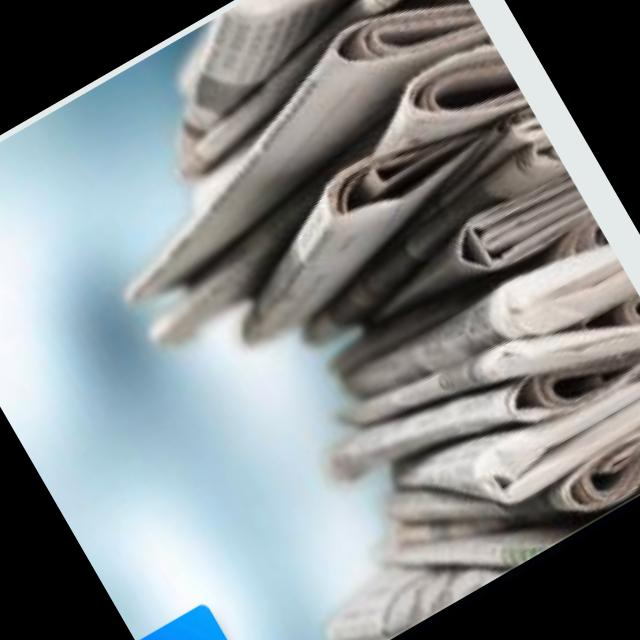Koran: (25, 0, 640, 640), (60, 0, 525, 321)
